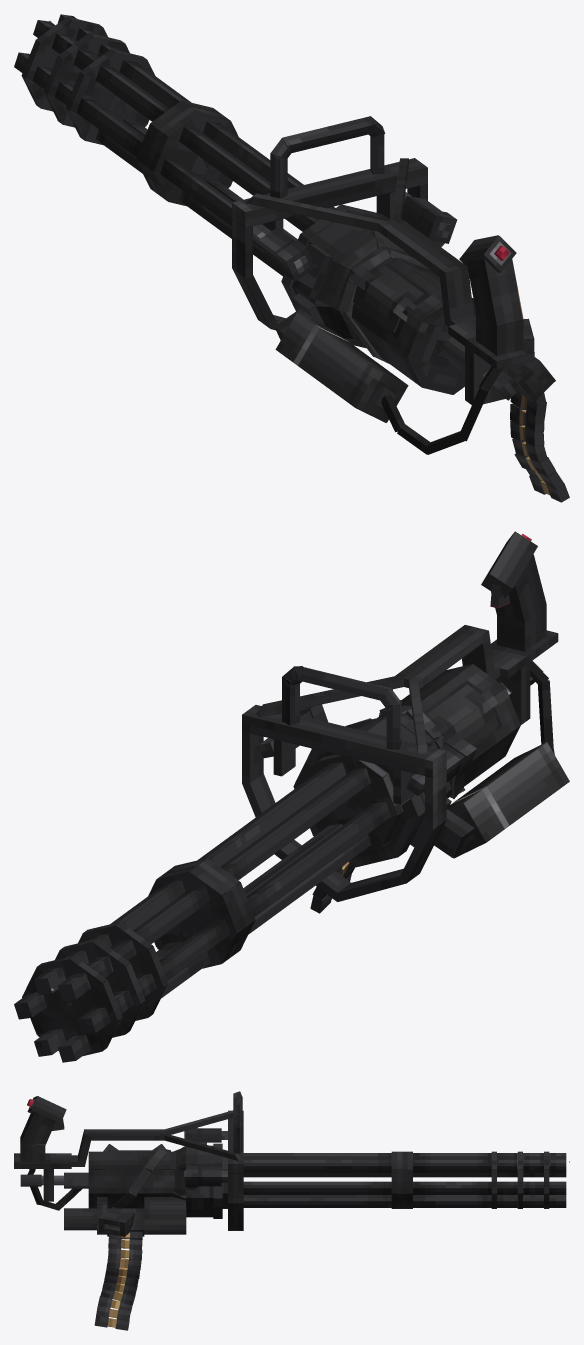
File: minigun.obj
3 renders of one model, top to bottom at view 1: azimuth 30°, elevation 25°; view 2: azimuth 150°, elevation 25°; view 3: azimuth 270°, elevation 25°, orthographic. The views are drawn at different scales.
Parts seen in each view (by area): view 1: gun, spinny_38; view 2: gun, spinny_38; view 3: gun, spinny_38, belt2_3, belt4_3, belt11_3, belt10_3, belt3_3, belt8_3, belt5_3.
Boxes of the visible parts, x1,y1,x2,y2 form: gun: (232,116,555,454); spinny_38: (14,14,335,276); gun: (242,531,569,901); spinny_38: (14,762,390,1062); gun: (14,1091,243,1236); spinny_38: (243,1151,566,1208); belt2_3: (108,1238,142,1249); belt4_3: (107,1257,141,1270); belt11_3: (94,1315,129,1330); belt10_3: (96,1306,130,1320); belt3_3: (108,1248,142,1259); belt8_3: (100,1289,135,1305); belt5_3: (106,1264,139,1278).
Size of the model in its own units: 1.79 by 2.65 by 6.62.
